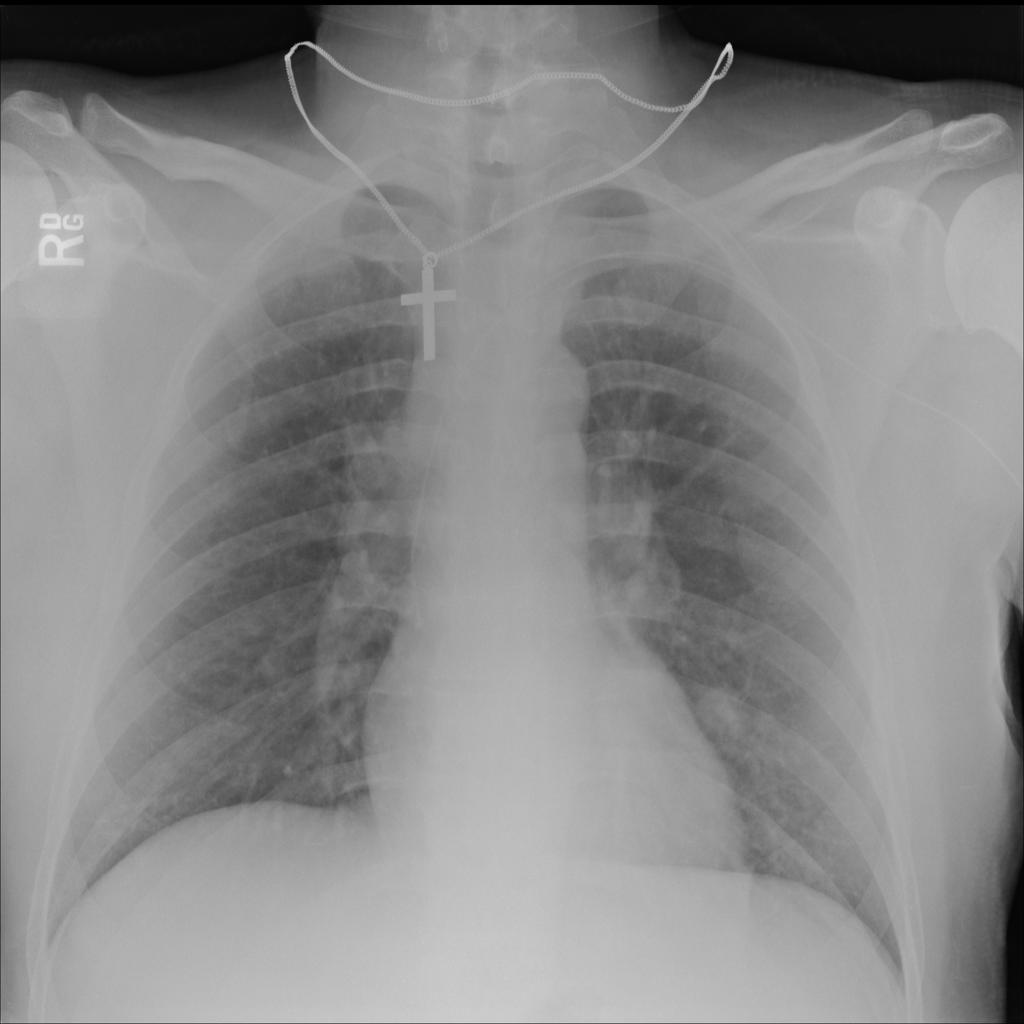nodule: (683, 668, 758, 756)
